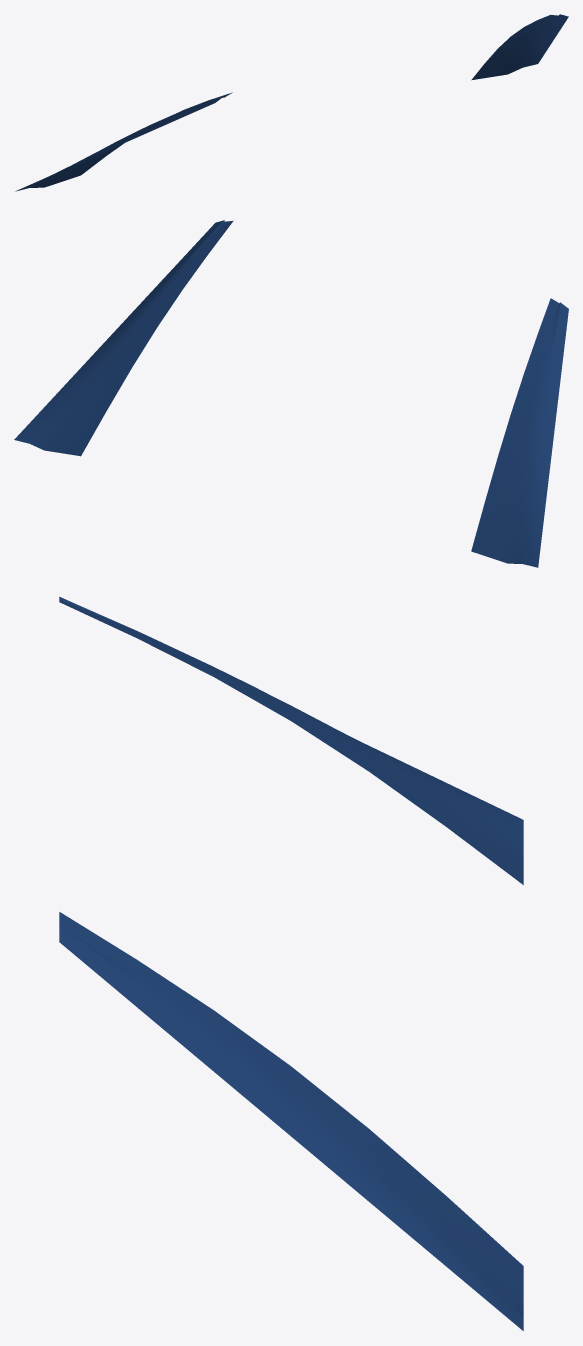
Rendered from a_pillar.glb.
3 views of the same model, one above another, from view 1: azimuth 30°, elevation 25°; view 2: azimuth 150°, elevation 25°; view 3: azimuth 270°, elevation 25° (orthographic). The views are drawn at different scales.
Visible parts, largest first — view 1: GEO_A_Pillars; view 2: GEO_A_Pillars; view 3: GEO_A_Pillars.
Part boxes in pixels (left/top/right/bottom): GEO_A_Pillars: left=15, top=14, right=568, bottom=191; GEO_A_Pillars: left=14, top=220, right=568, bottom=567; GEO_A_Pillars: left=59, top=596, right=523, bottom=1330.
Size of the model in its own units: 1.72 by 0.51 by 0.66.
